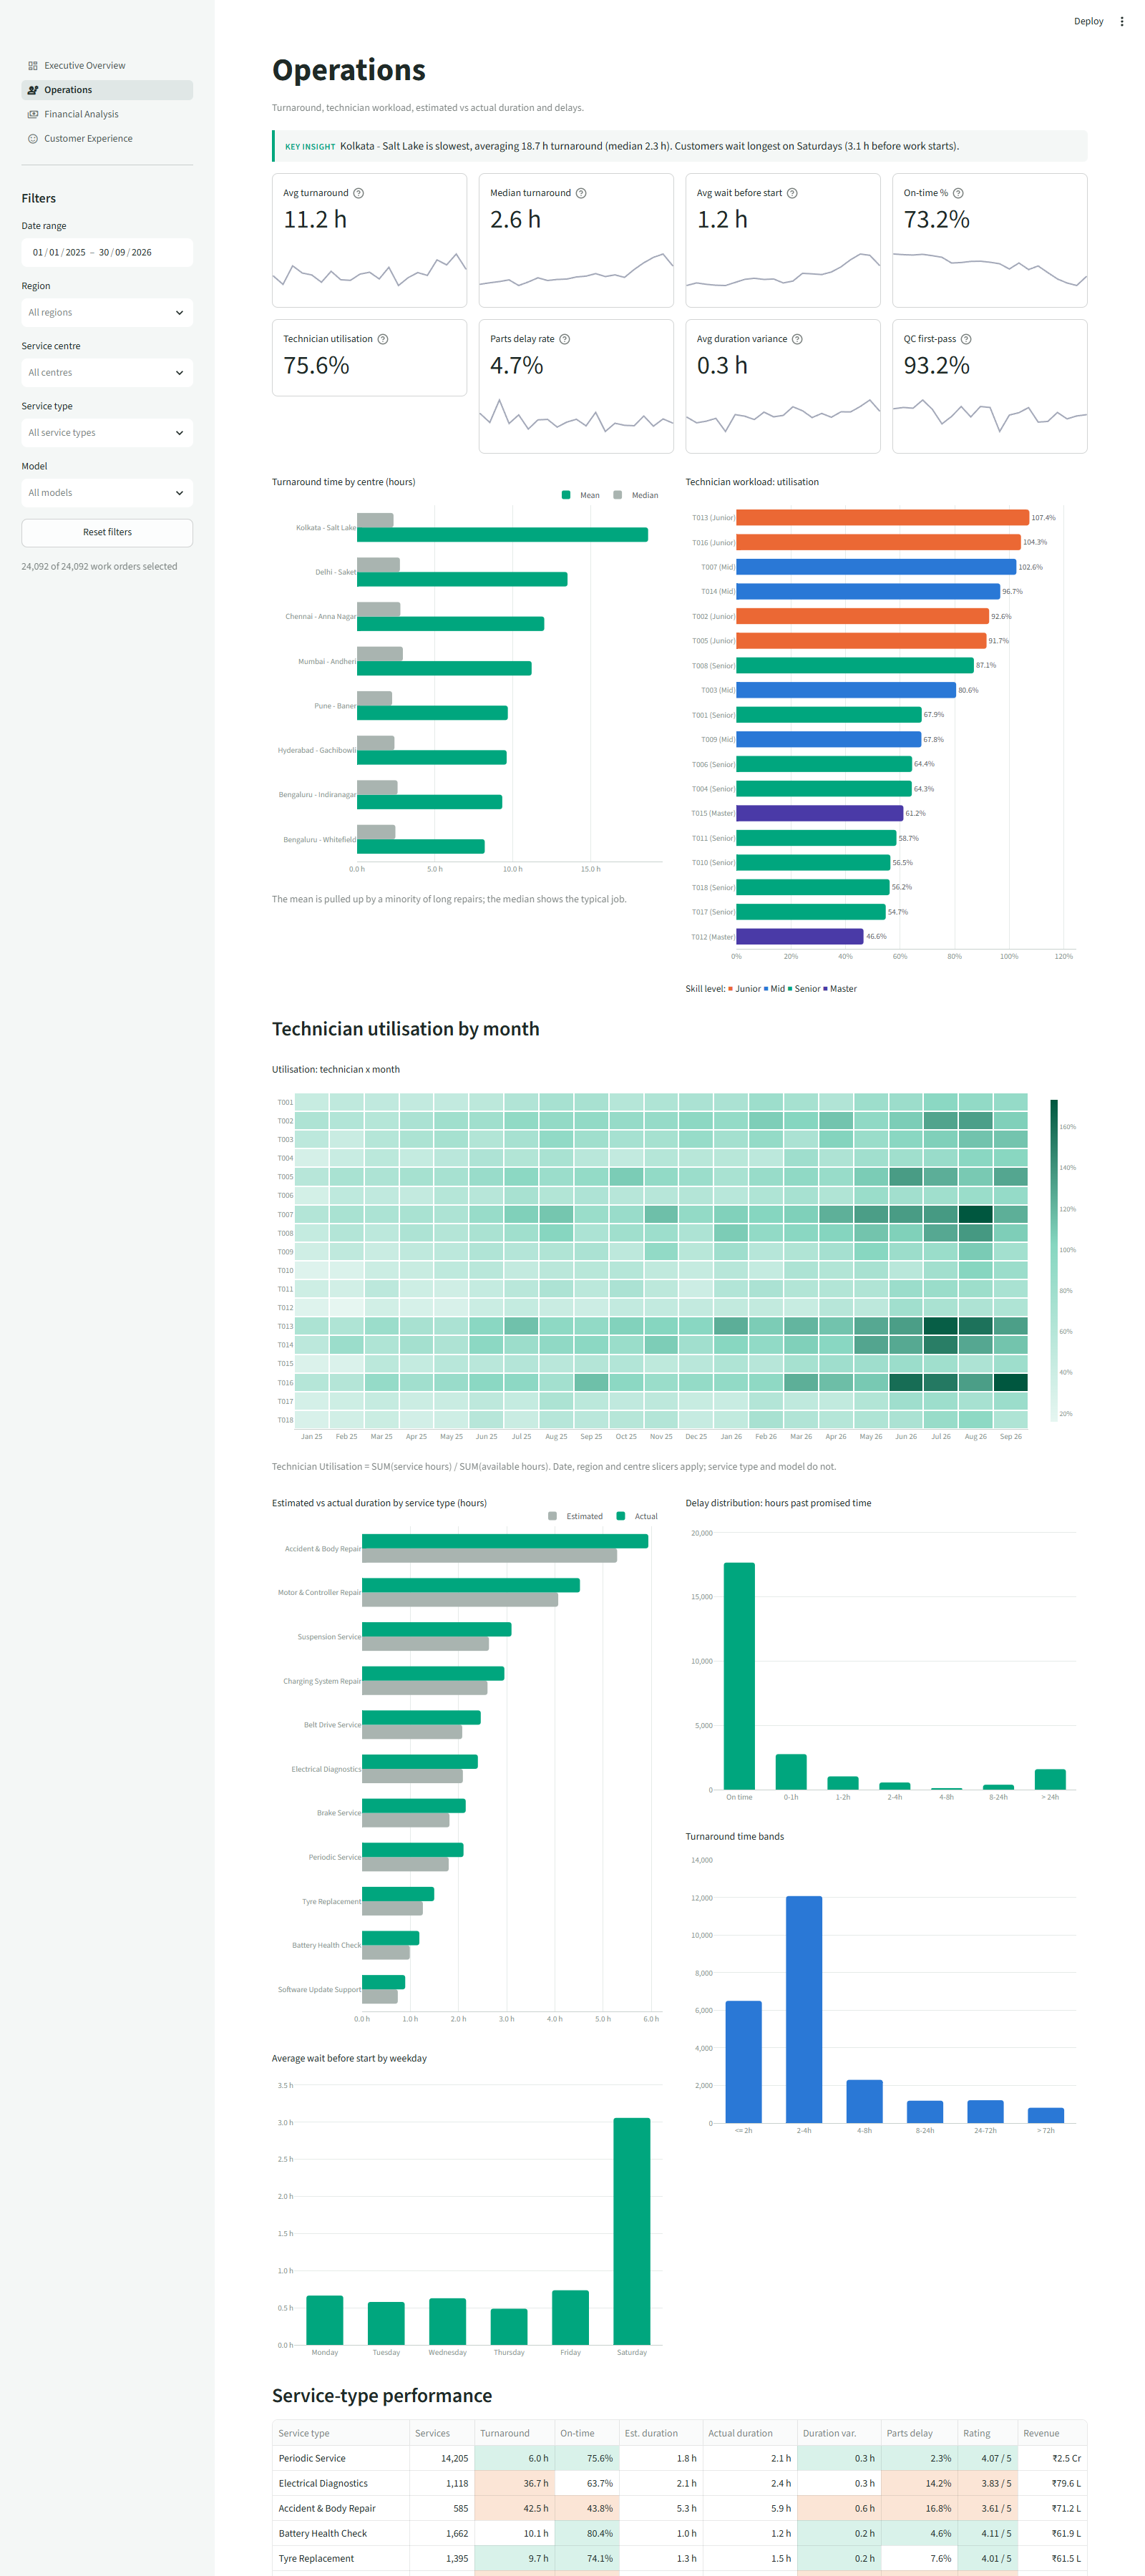

What the dashboard file says about the page in this screenshot:
{"tool":"powerbi","page":{"name":"Operations","canvas":[1280,1200],"ordinal":1},"visuals":[{"type":"textbox","box":[216,8,700,40],"z":0},{"type":"card","fields":{"Values":["_Measures.Selection Label"]},"box":[860,12,396,34],"z":1000},{"type":"card","fields":{"Values":["_Measures.Key Insight - Operations"]},"box":[216,52,1040,52],"z":2000},{"type":"textbox","box":[24,14,180,30],"z":3000},{"type":"slicer","fields":{"Values":["DimDate.date"]},"box":[24,52,176,90],"z":4000},{"type":"slicer","fields":{"Values":["DimCentre.region"]},"box":[24,150,176,60],"z":5000},{"type":"slicer","fields":{"Values":["DimCentre.center_name"]},"box":[24,218,176,60],"z":6000},{"type":"slicer","fields":{"Values":["DimServiceType.service_type"]},"box":[24,286,176,60],"z":7000},{"type":"slicer","fields":{"Values":["DimModel.model"]},"box":[24,354,176,60],"z":8000},{"type":"textbox","box":[24,1170,1232,28],"z":9000},{"type":"card","fields":{"Values":["_Measures.Avg Turnaround Hours"]},"box":[216,112,123,72],"z":10000},{"type":"card","fields":{"Values":["_Measures.Median Turnaround Hours"]},"box":[347,112,123,72],"z":11000},{"type":"card","fields":{"Values":["_Measures.Avg Wait Hours"]},"box":[478,112,123,72],"z":12000},{"type":"card","fields":{"Values":["_Measures.On-Time %"]},"box":[609,112,123,72],"z":13000},{"type":"card","fields":{"Values":["_Measures.Technician Utilisation %"]},"box":[740,112,123,72],"z":14000},{"type":"card","fields":{"Values":["_Measures.Parts Delay Rate"]},"box":[871,112,123,72],"z":15000},{"type":"card","fields":{"Values":["_Measures.Avg Duration Variance Hours"]},"box":[1002,112,123,72],"z":16000},{"type":"card","fields":{"Values":["_Measures.QC First-Pass %"]},"box":[1133,112,123,72],"z":17000},{"type":"clusteredBarChart","title":"Turnaround time by centre (hours): mean vs median","fields":{"Category":["DimCentre.center_name"],"Y":["_Measures.Avg Turnaround Hours","_Measures.Median Turnaround Hours"]},"box":[216,192,400,240],"z":18000},{"type":"clusteredBarChart","title":"Technician workload: utilisation (service h / available h)","fields":{"Category":["DimTechnician.technician_id"],"Y":["_Measures.Technician Utilisation %"]},"box":[624,192,632,240],"z":19000},{"type":"pivotTable","title":"Technician utilisation by month","fields":{"Columns":["DimDate.Month Label"],"Rows":["DimTechnician.technician_id"],"Values":["_Measures.Technician Utilisation %"]},"box":[216,440,1040,280],"z":20000},{"type":"clusteredBarChart","title":"Estimated vs actual labour hours by service type","fields":{"Category":["DimServiceType.service_type"],"Y":["_Measures.Avg Estimated Hours","_Measures.Avg Actual Hours"]},"box":[216,728,400,260],"z":21000},{"type":"clusteredColumnChart","title":"Delay distribution: hours past promised time","fields":{"Category":["fact_service.Delay Band"],"Y":["_Measures.Completed Services"]},"box":[624,728,310,126],"z":22000},{"type":"clusteredColumnChart","title":"Turnaround time bands","fields":{"Category":["fact_service.Turnaround Band"],"Y":["_Measures.Completed Services"]},"box":[942,728,314,126],"z":23000},{"type":"clusteredColumnChart","title":"Average wait before work starts by weekday (hours)","fields":{"Category":["DimDate.weekday_name"],"Y":["_Measures.Avg Wait Hours"]},"box":[624,862,632,126],"z":24000},{"type":"tableEx","title":"Service-type performance","fields":{"Values":["DimServiceType.service_type","_Measures.Completed Services","_Measures.Avg Turnaround Hours","_Measures.On-Time %","_Measures.Avg Estimated Hours","_Measures.Avg Actual Hours","_Measures.Avg Duration Variance Hours","_Measures.Parts Delay Rate","_Measures.Avg Rating","_Measures.Total Revenue"]},"box":[216,996,1040,180],"z":25000}]}

Visuals, with their boxes on the page's 1280x1200 design canvas (x1, y1, x2, y2). These are canvas units, not pixel positions in the 1145x2576 screenshot, which may show the page scaled, cropped or inside an application window:
textbox: region(216, 8, 916, 48)
card - _Measures.Selection Label: region(860, 12, 1256, 46)
card - _Measures.Key Insight - Operations: region(216, 52, 1256, 104)
textbox: region(24, 14, 204, 44)
slicer - DimDate.date: region(24, 52, 200, 142)
slicer - DimCentre.region: region(24, 150, 200, 210)
slicer - DimCentre.center_name: region(24, 218, 200, 278)
slicer - DimServiceType.service_type: region(24, 286, 200, 346)
slicer - DimModel.model: region(24, 354, 200, 414)
textbox: region(24, 1170, 1256, 1198)
card - _Measures.Avg Turnaround Hours: region(216, 112, 339, 184)
card - _Measures.Median Turnaround Hours: region(347, 112, 470, 184)
card - _Measures.Avg Wait Hours: region(478, 112, 601, 184)
card - _Measures.On-Time %: region(609, 112, 732, 184)
card - _Measures.Technician Utilisation %: region(740, 112, 863, 184)
card - _Measures.Parts Delay Rate: region(871, 112, 994, 184)
card - _Measures.Avg Duration Variance Hours: region(1002, 112, 1125, 184)
card - _Measures.QC First-Pass %: region(1133, 112, 1256, 184)
"Turnaround time by centre (hours): mean vs median" clusteredBarChart: region(216, 192, 616, 432)
"Technician workload: utilisation (service h / available h)" clusteredBarChart: region(624, 192, 1256, 432)
"Technician utilisation by month" pivotTable: region(216, 440, 1256, 720)
"Estimated vs actual labour hours by service type" clusteredBarChart: region(216, 728, 616, 988)
"Delay distribution: hours past promised time" clusteredColumnChart: region(624, 728, 934, 854)
"Turnaround time bands" clusteredColumnChart: region(942, 728, 1256, 854)
"Average wait before work starts by weekday (hours)" clusteredColumnChart: region(624, 862, 1256, 988)
"Service-type performance" tableEx: region(216, 996, 1256, 1176)
